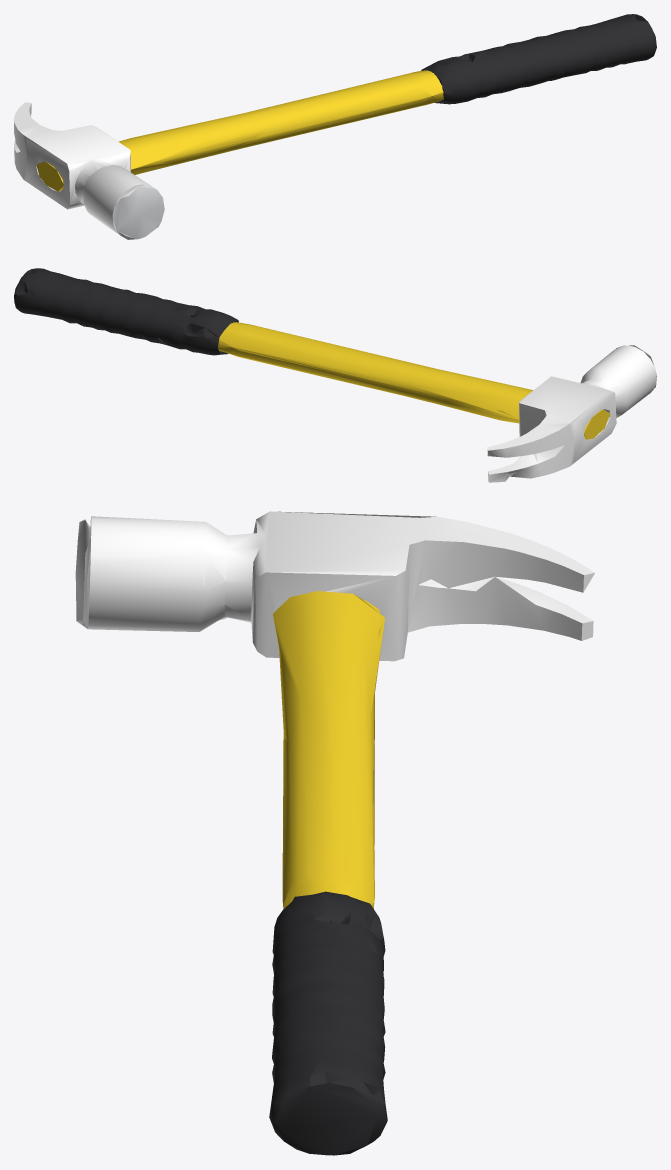
Rendered from simready-hammer-claw.lod1.fcc6c4aa.glb.
3 renders of one model, top to bottom at view 1: azimuth 30°, elevation 25°; view 2: azimuth 150°, elevation 25°; view 3: azimuth 270°, elevation 25°, orthographic. The views are drawn at different scales.
Visible parts, largest first — view 1: model; view 2: model; view 3: model.
Part boxes in pixels (bbox=[...]): model: bbox=[14, 14, 656, 239]; model: bbox=[14, 268, 656, 482]; model: bbox=[75, 511, 594, 1155].
Bounding box in the file's own units: 0.3301 × 0.0292 × 0.13.
